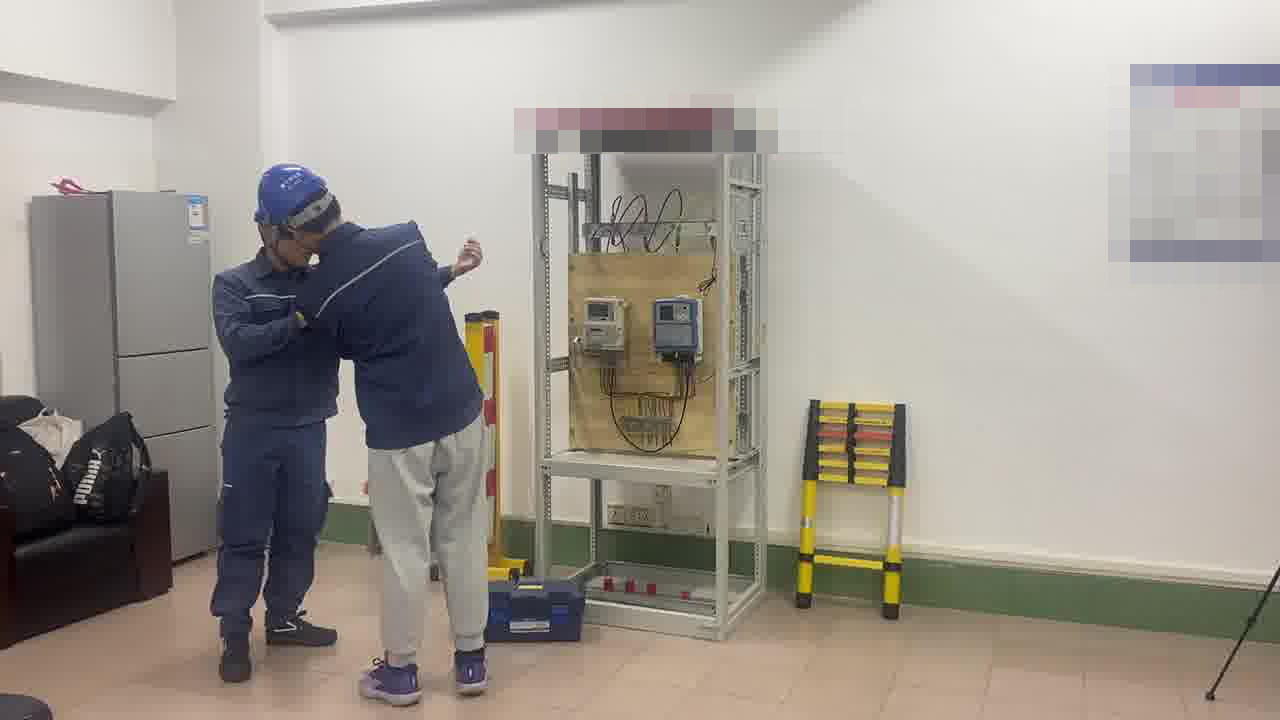downcloth: (354, 414, 493, 670)
downsuit: (211, 438, 331, 641)
halt: (254, 162, 339, 264)
hand: (457, 238, 484, 276)
person: (258, 156, 498, 706), (206, 162, 343, 678)
upsuit: (300, 222, 487, 444), (212, 252, 344, 434)
